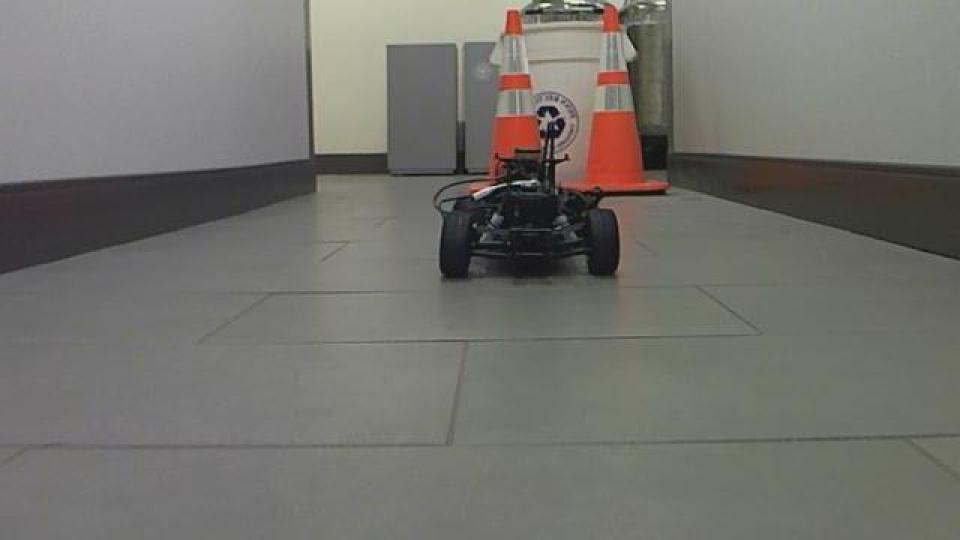car: (431, 122, 622, 280)
